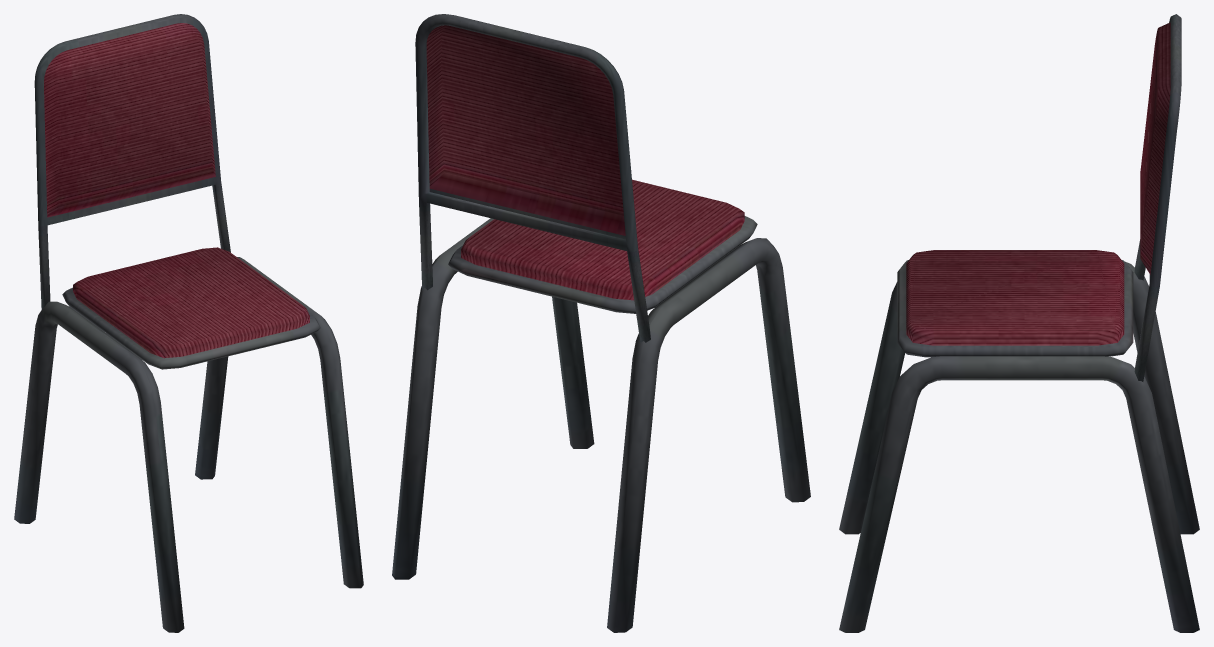
The model's file is guest_chair.FBX.
The picture shows the model from 3 angles, left to right: view 1: azimuth 30°, elevation 25°; view 2: azimuth 150°, elevation 25°; view 3: azimuth 270°, elevation 25°; orthographic projection. The views are drawn at different scales.
Visible parts, largest first — view 1: guest_chair; view 2: guest_chair; view 3: guest_chair.
Boxes of the visible parts, box(x1,y1,x2,y2) form: guest_chair: box(14, 14, 363, 632); guest_chair: box(392, 14, 810, 632); guest_chair: box(839, 14, 1199, 632).
Size of the model in its own units: 45.44 by 105 by 64.7.
